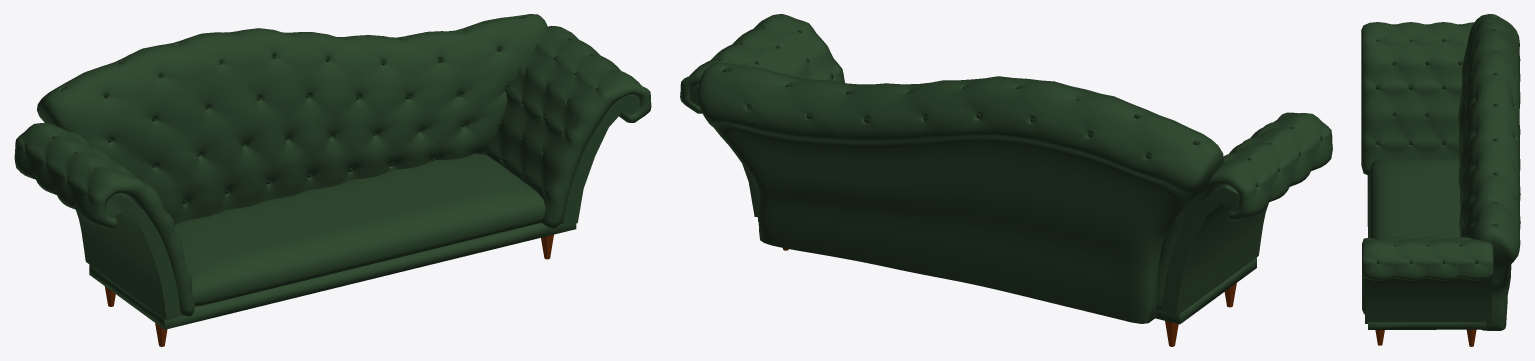
The model's file is Mesh_GreenCouch.fbx.
3 views of the same model, side by side, from view 1: azimuth 30°, elevation 25°; view 2: azimuth 150°, elevation 25°; view 3: azimuth 270°, elevation 25° (orthographic). The views are drawn at different scales.
Parts seen in each view (by area): view 1: Mesh_Green_Couch; view 2: Mesh_Green_Couch; view 3: Mesh_Green_Couch.
Part boxes in pixels (bbox=[...]): Mesh_Green_Couch: bbox=[14, 14, 651, 346]; Mesh_Green_Couch: bbox=[680, 14, 1332, 346]; Mesh_Green_Couch: bbox=[1361, 14, 1520, 346].
Size of the model in its own units: 647 by 259 by 201.
